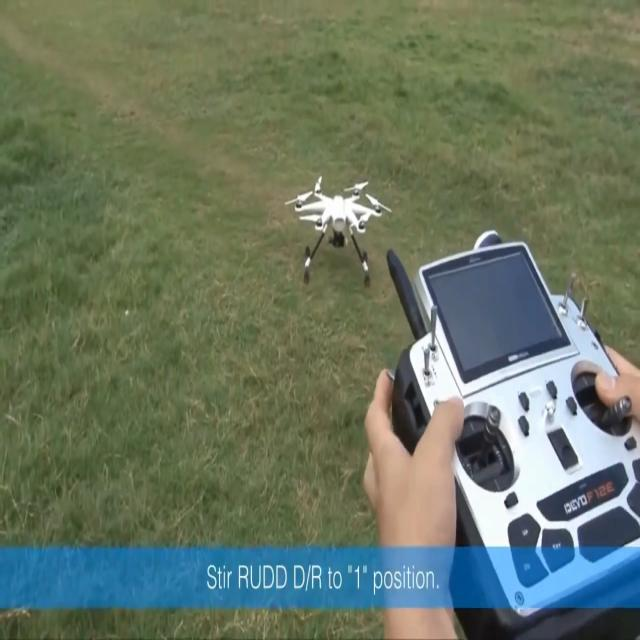drone: (284, 174, 392, 288)
